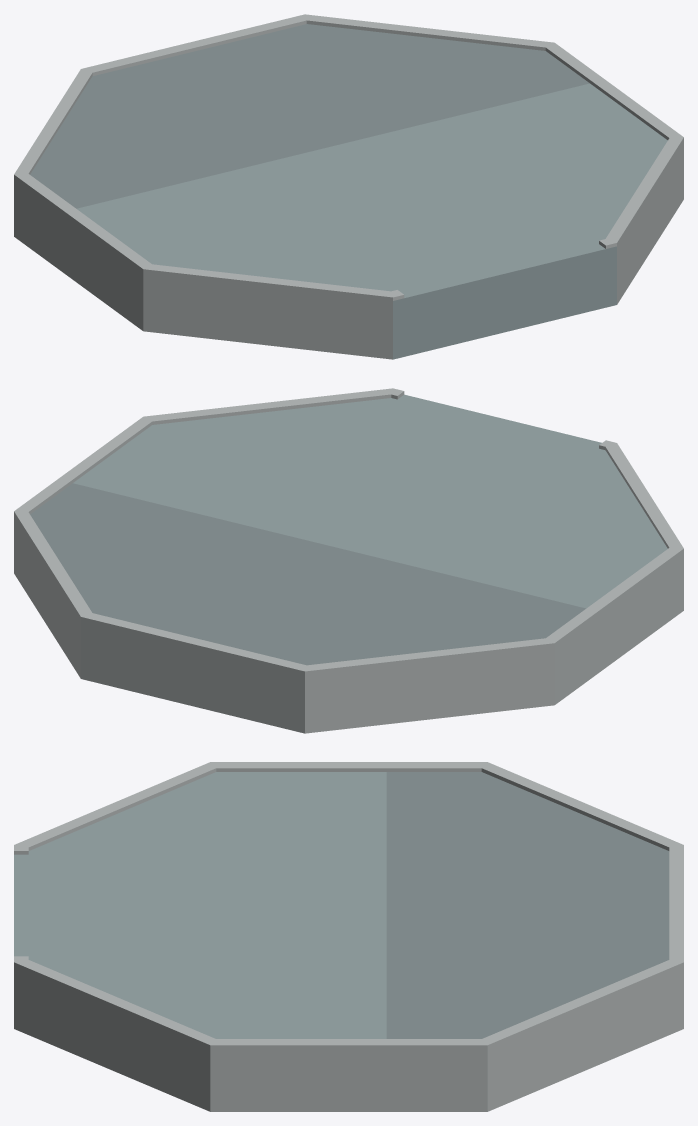
The model's file is road_grey_final.fbx.
The picture shows the model from 3 angles, top to bottom: view 1: azimuth 30°, elevation 25°; view 2: azimuth 150°, elevation 25°; view 3: azimuth 270°, elevation 25°; orthographic projection. The views are drawn at different scales.
Visible parts, largest first — view 1: road_grey_final; view 2: road_grey_final; view 3: road_grey_final.
Part boxes in pixels (x1,y1,x2,y2): road_grey_final: (14, 14, 683, 359); road_grey_final: (14, 388, 683, 733); road_grey_final: (14, 762, 683, 1111).
Size of the model in its own units: 4.83 by 0.5304 by 4.83.
